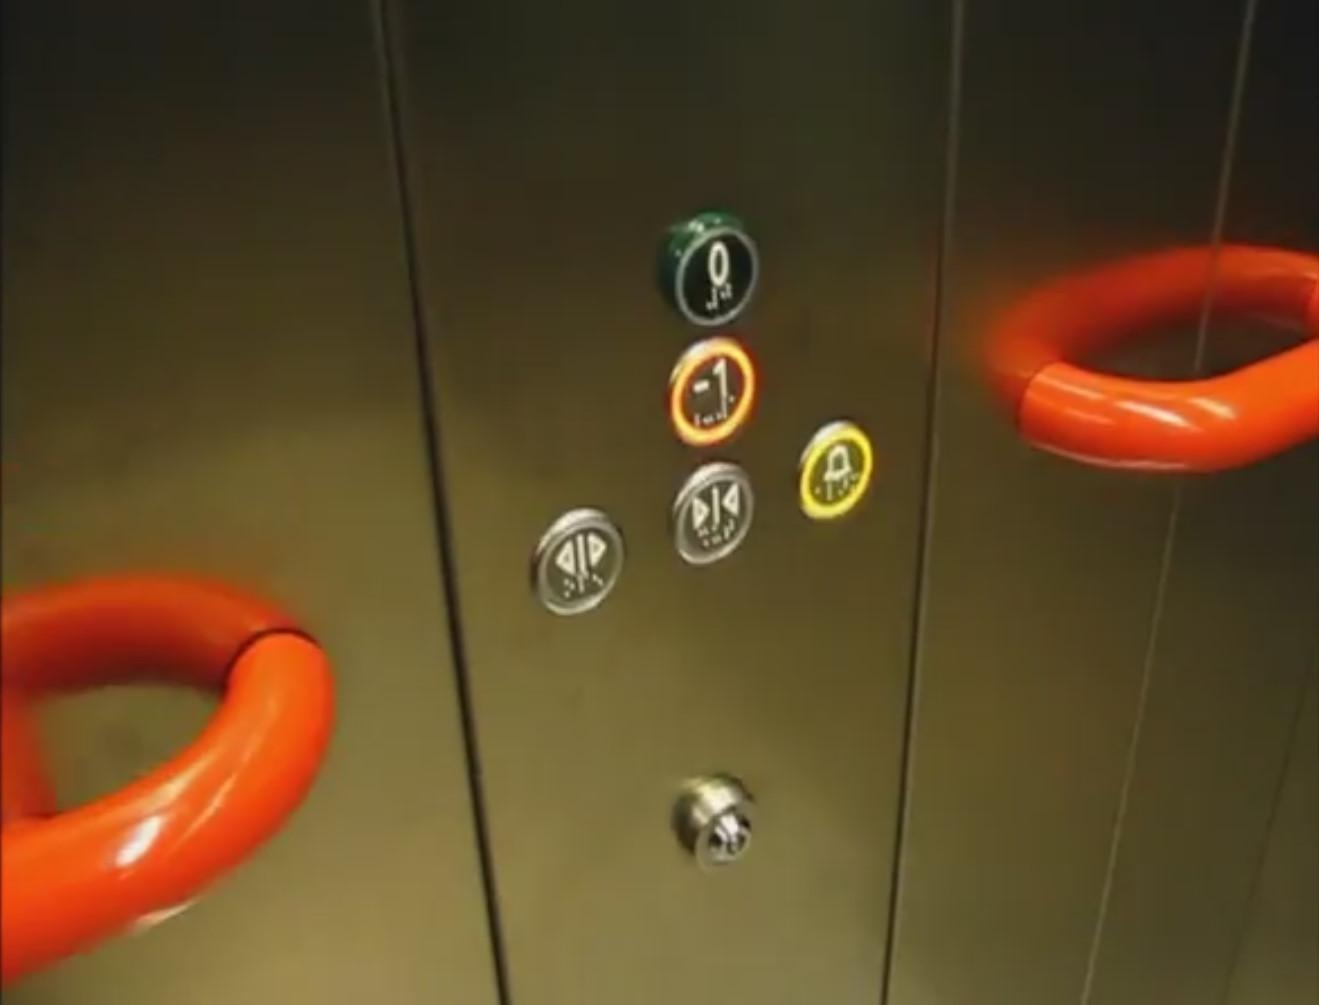-1: (666, 335, 757, 442)
0: (659, 210, 764, 326)
alarm: (794, 418, 875, 530)
close: (666, 461, 753, 565)
keyhole: (681, 777, 764, 874)
open: (527, 500, 632, 622)
